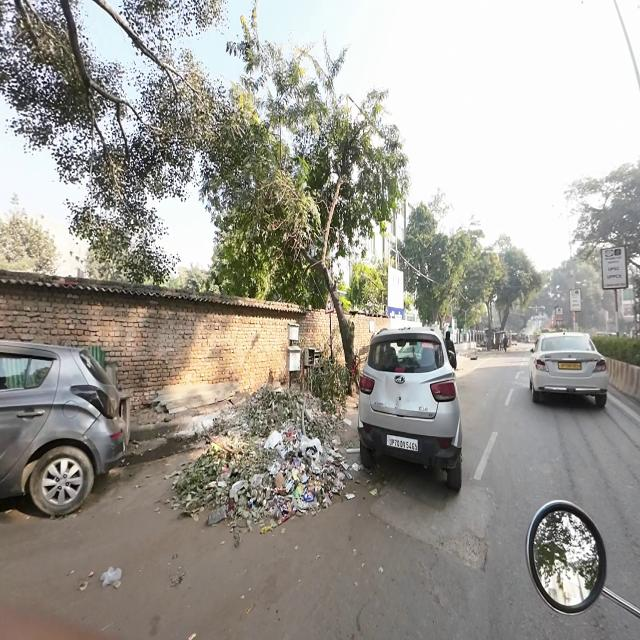Garbage: (174, 434, 352, 529), (220, 380, 340, 441), (100, 562, 126, 593)
